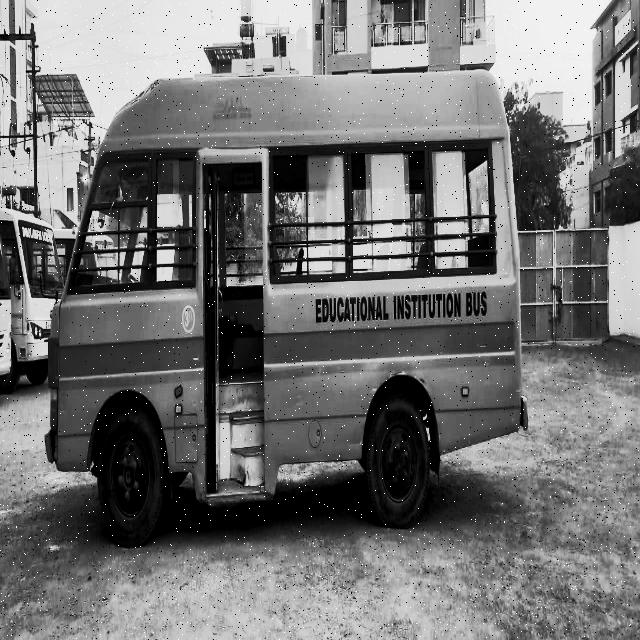Bus: (45, 59, 538, 558)
